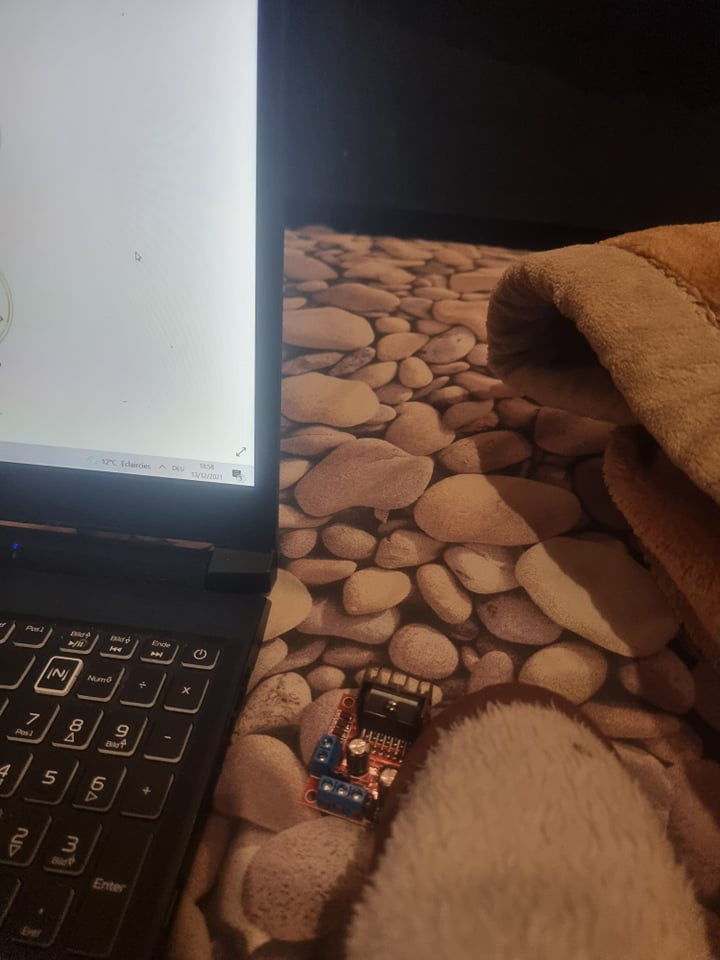MOTOR: (297, 667, 438, 822)
